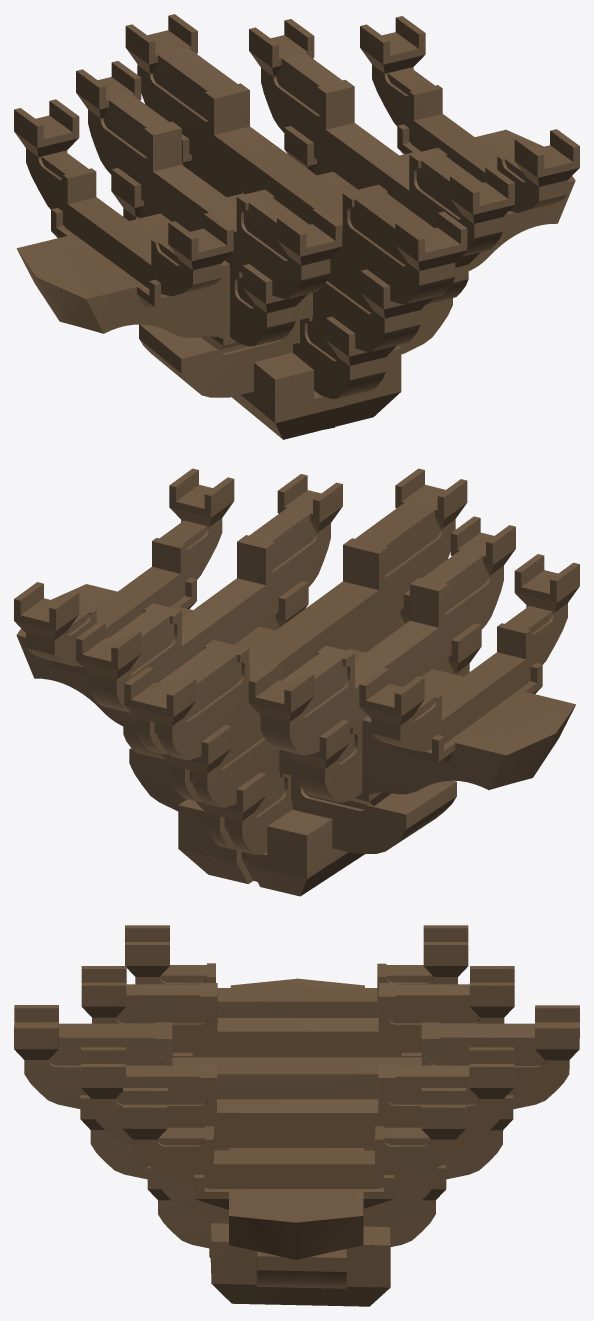
The model's file is jingganzhu.glb.
3 renders of one model, top to bottom at view 1: azimuth 30°, elevation 25°; view 2: azimuth 150°, elevation 25°; view 3: azimuth 270°, elevation 25°, orthographic. The views are drawn at different scales.
Visible parts, largest first — view 1: Geom3D_外、里拽万拱 (×2), Geom3D_三才升#1 (×11), Geom3D_正心万拱#1, Geom3D_厢拱 (×2), Geom3D_昂（柱头）, Geom3D_坐斗#2, Geom3D_翘, Geom3D_正心万拱, Geom3D_槽升子#2 (×2), Geom3D_外、里拽瓜拱 (×2), Geom3D_正心瓜拱, Geom3D_槽升子#1 (×2) (+1 smaller); view 2: Geom3D_外、里拽万拱 (×2), Geom3D_三才升#1 (×11), Geom3D_正心万拱#1, Geom3D_厢拱 (×2), Geom3D_昂（柱头）, Geom3D_坐斗#2, Geom3D_翘, Geom3D_正心万拱, Geom3D_槽升子#2 (×2), Geom3D_外、里拽瓜拱 (×2), Geom3D_正心瓜拱, Geom3D_槽升子#1 (×2) (+1 smaller); view 3: Geom3D_外、里拽万拱 (×2), Geom3D_厢拱 (×2), Geom3D_正心万拱#1, Geom3D_三才升#1 (×8), Geom3D_昂（柱头）, Geom3D_坐斗#2, Geom3D_槽升子#2 (×2), Geom3D_正心瓜拱, Geom3D_正心万拱, Geom3D_翘, Geom3D_外、里拽瓜拱, Geom3D_十八斗（柱头）2.
Boxes of the visible parts, x1=… form: Geom3D_外、里拽万拱 (×2): x1=88, y1=52, x2=502, y2=298; Geom3D_三才升#1 (×11): x1=14, y1=16, x2=579, y2=313; Geom3D_正心万拱#1: x1=137, y1=48, x2=455, y2=304; Geom3D_厢拱 (×2): x1=26, y1=65, x2=567, y2=296; Geom3D_昂（柱头）: x1=16, y1=129, x2=575, y2=338; Geom3D_坐斗#2: x1=232, y1=345, x2=401, y2=439; Geom3D_翘: x1=139, y1=298, x2=452, y2=397; Geom3D_正心万拱: x1=188, y1=155, x2=420, y2=351; Geom3D_槽升子#2 (×2): x1=125, y1=14, x2=467, y2=270; Geom3D_外、里拽瓜拱 (×2): x1=123, y1=160, x2=468, y2=346; Geom3D_正心瓜拱: x1=293, y1=317, x2=385, y2=398; Geom3D_槽升子#1 (×2): x1=325, y1=269, x2=432, y2=365; Geom3D_外、里拽万拱 (×2): x1=88, y1=508, x2=503, y2=755; Geom3D_三才升#1 (×11): x1=14, y1=468, x2=579, y2=768; Geom3D_正心万拱#1: x1=136, y1=502, x2=455, y2=759; Geom3D_厢拱 (×2): x1=26, y1=518, x2=567, y2=751; Geom3D_昂（柱头）: x1=16, y1=584, x2=575, y2=794; Geom3D_坐斗#2: x1=178, y1=799, x2=364, y2=896; Geom3D_翘: x1=129, y1=748, x2=456, y2=853; Geom3D_正心万拱: x1=171, y1=611, x2=404, y2=807; Geom3D_槽升子#2 (×2): x1=124, y1=468, x2=467, y2=726; Geom3D_外、里拽瓜拱 (×2): x1=123, y1=615, x2=469, y2=802; Geom3D_正心瓜拱: x1=206, y1=772, x2=292, y2=854; Geom3D_槽升子#1 (×2): x1=159, y1=725, x2=266, y2=821; Geom3D_外、里拽万拱 (×2): x1=91, y1=983, x2=504, y2=1147; Geom3D_厢拱 (×2): x1=133, y1=963, x2=457, y2=1188; Geom3D_正心万拱#1: x1=24, y1=1022, x2=569, y2=1109; Geom3D_三才升#1 (×8): x1=81, y1=925, x2=514, y2=1139; Geom3D_昂（柱头）: x1=229, y1=978, x2=364, y2=1259; Geom3D_坐斗#2: x1=209, y1=1223, x2=390, y2=1306; Geom3D_槽升子#2 (×2): x1=14, y1=1005, x2=579, y2=1060; Geom3D_正心瓜拱: x1=158, y1=1200, x2=435, y2=1248; Geom3D_正心万拱: x1=90, y1=1130, x2=503, y2=1179; Geom3D_翘: x1=256, y1=1249, x2=346, y2=1288; Geom3D_外、里拽瓜拱: x1=157, y1=1148, x2=435, y2=1218; Geom3D_十八斗（柱头）2: x1=194, y1=1174, x2=394, y2=1209.
Bounding box in the file's own units: 2.22 × 1.13 × 2.17.
1 material, 1 textured.
